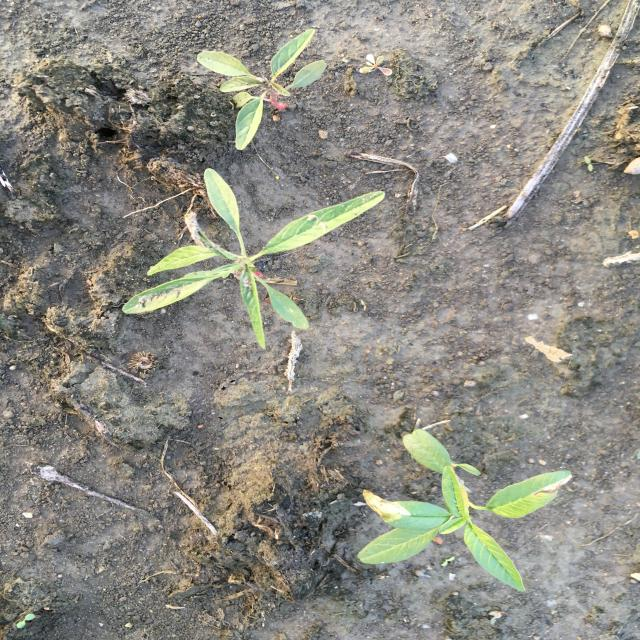Waterhemp: (120, 168, 388, 352), (354, 427, 574, 595), (196, 28, 331, 152)
